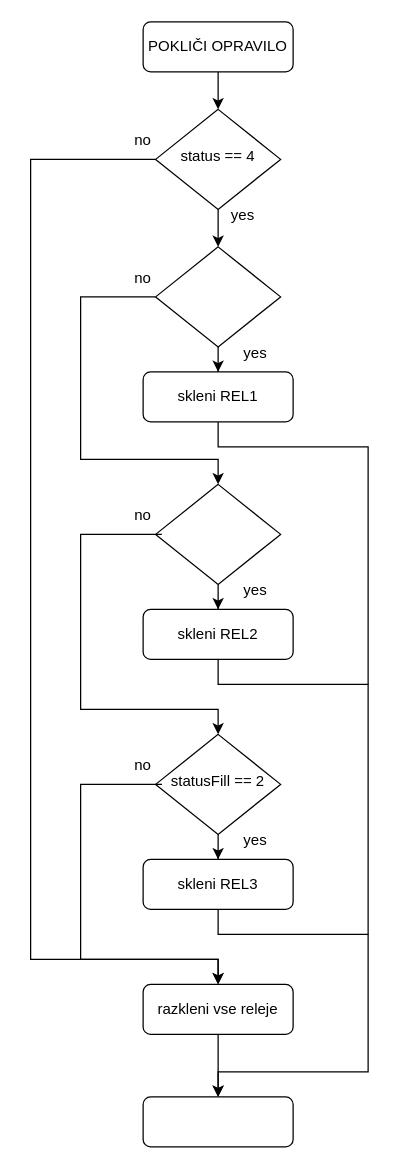
Image size: 400x1169. Some labels were removed from this diagram. The shapes that lost their labels are listed below. From the top down, each one's centre as x and y in pixels, then its label:
At [217,296]: "statusFill == 0".
At [217,533]: "statusFill == 1".
At [217,1121]: "ČAKAJ".
